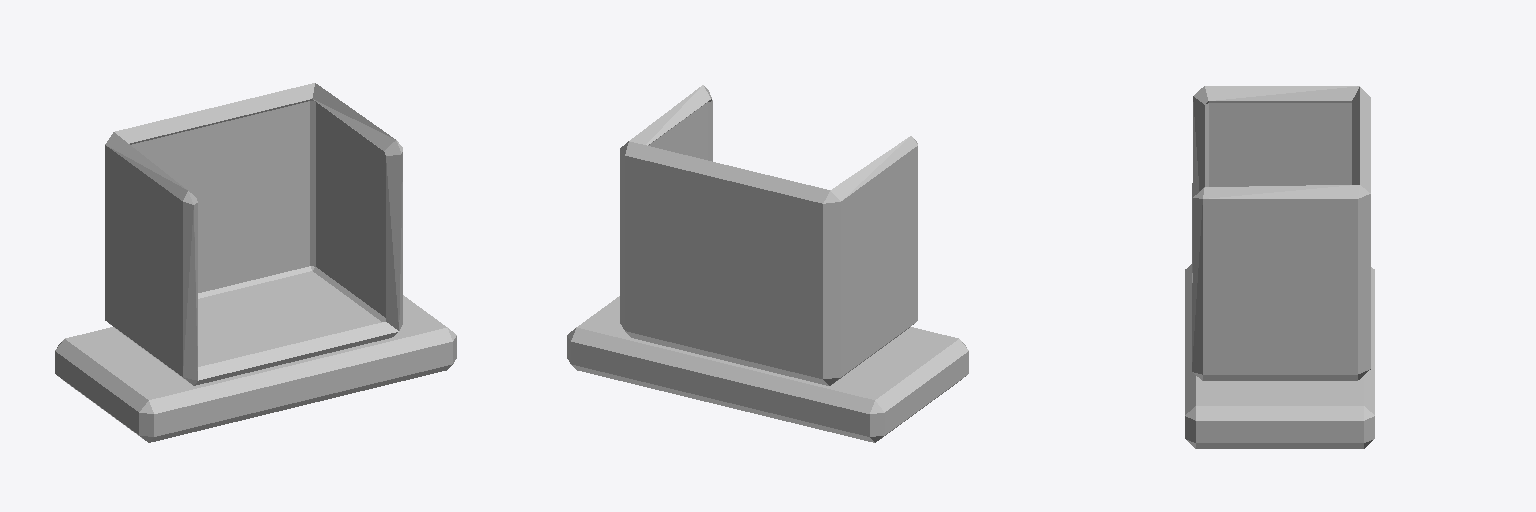
File: fireplace.obj
3 views of the same model, side by side, from view 1: azimuth 30°, elevation 25°; view 2: azimuth 150°, elevation 25°; view 3: azimuth 270°, elevation 25° (orthographic).
Parts seen in each view (by area): view 1: ChamferBox002, ChamferBox001; view 2: ChamferBox002, ChamferBox001; view 3: ChamferBox002, ChamferBox001.
Boxes of the visible parts, <box> form: ChamferBox002: <box>105,83,402,385</box>; ChamferBox001: <box>55,295,456,442</box>; ChamferBox002: <box>620,85,917,385</box>; ChamferBox001: <box>567,296,968,442</box>; ChamferBox002: <box>1192,86,1370,380</box>; ChamferBox001: <box>1185,264,1374,448</box>.
Bounding box in the file's own units: 6.47 × 4.67 × 3.36.